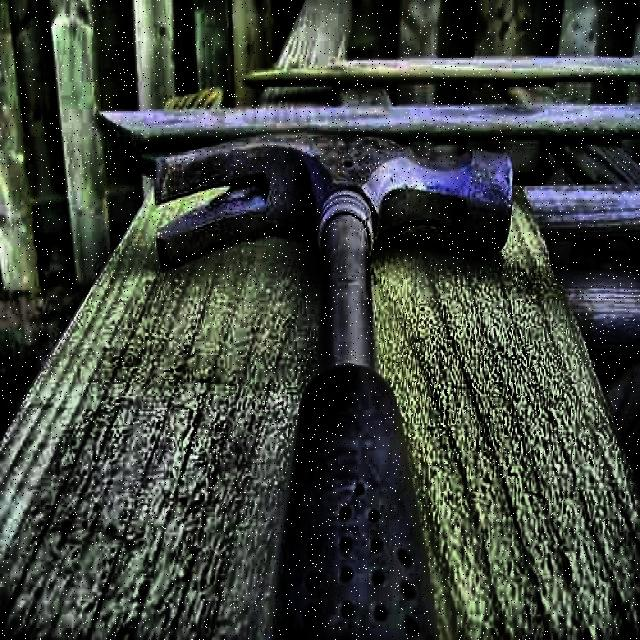hammer: (149, 130, 518, 640)
